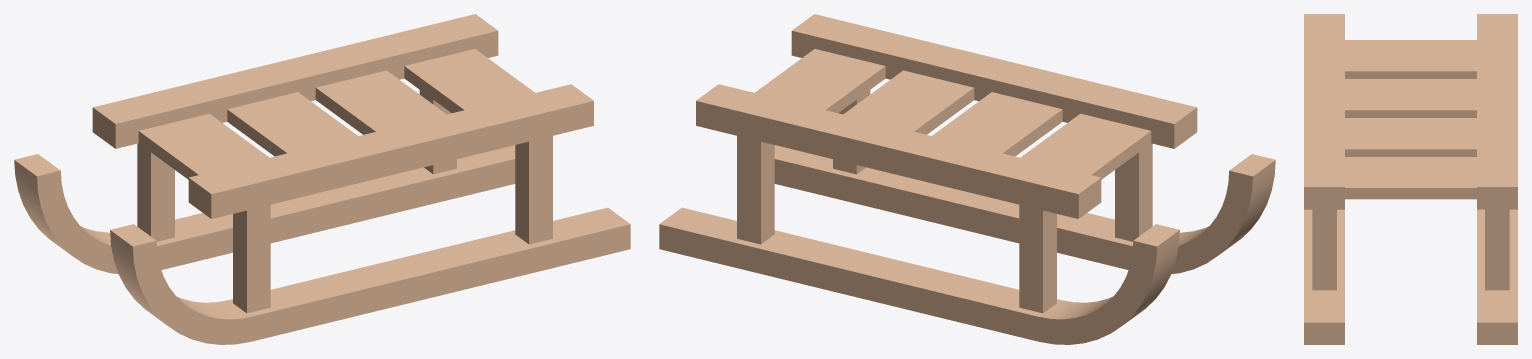
The model's file is sled.glb.
The picture shows the model from 3 angles, left to right: view 1: azimuth 30°, elevation 25°; view 2: azimuth 150°, elevation 25°; view 3: azimuth 270°, elevation 25°; orthographic projection. The views are drawn at different scales.
Visible parts, largest first — view 1: sled(Clone); view 2: sled(Clone); view 3: sled(Clone).
Boxes of the visible parts, <box> form: sled(Clone): <box>14,14,630,344</box>; sled(Clone): <box>659,14,1275,344</box>; sled(Clone): <box>1304,14,1517,344</box>.
Bounding box in the file's own units: 0.63 × 0.1901 × 0.26.
